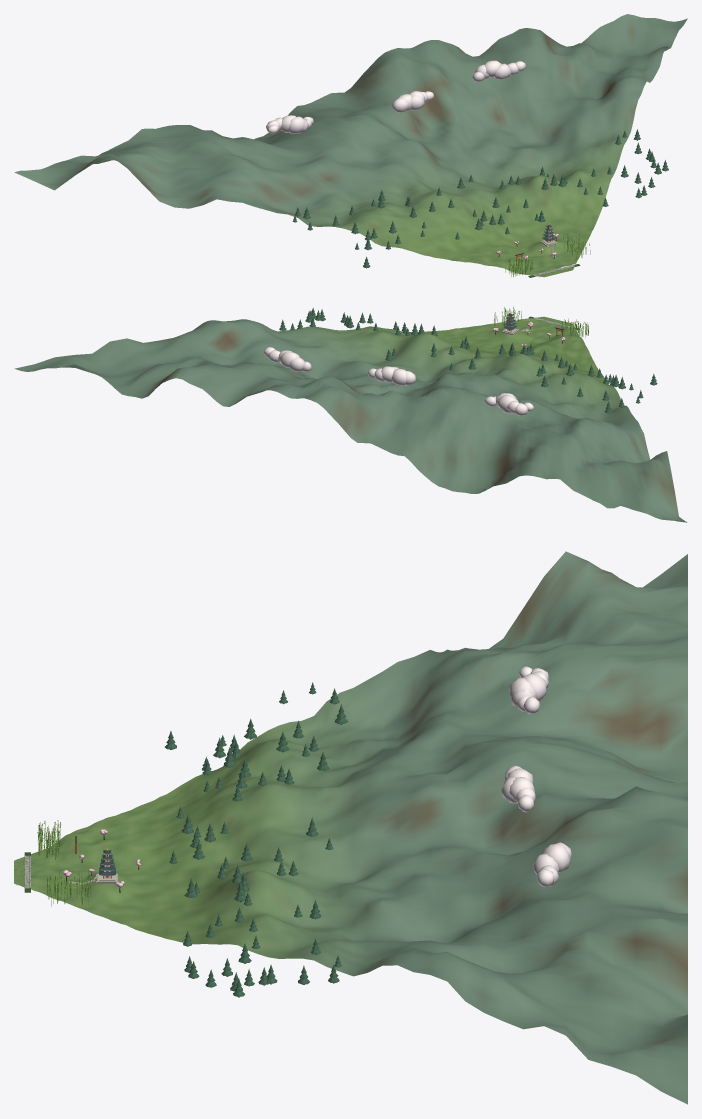
Rendered from backdrop_3.glb.
3 views of the same model, one above another, from view 1: azimuth 30°, elevation 25°; view 2: azimuth 150°, elevation 25°; view 3: azimuth 270°, elevation 25° (orthographic). The views are drawn at different scales.
Parts seen in each view (by area): view 1: mid_land, far_trees, cloud_2, cloud_0, cloud_1, mid_bamboo; view 2: mid_land, far_trees, cloud_1, cloud_2, cloud_0, mid_bamboo; view 3: mid_land, far_trees, cloud_0, mid_bamboo, cloud_2, cloud_1.
Boxes of the visible parts, left/top/right/bottom form: mid_land: left=14, top=14, right=687, bottom=275; far_trees: left=292, top=129, right=668, bottom=268; cloud_2: left=472, top=60, right=525, bottom=81; cloud_0: left=266, top=115, right=313, bottom=133; cloud_1: left=391, top=91, right=433, bottom=112; mid_bamboo: left=505, top=234, right=590, bottom=277; mid_land: left=14, top=318, right=687, bottom=522; far_trees: left=279, top=307, right=657, bottom=413; cloud_1: left=367, top=366, right=416, bottom=385; cloud_2: left=264, top=347, right=311, bottom=371; cloud_0: left=484, top=393, right=533, bottom=415; mid_bamboo: left=494, top=306, right=588, bottom=337; mid_land: left=31, top=551, right=687, bottom=1104; far_trees: left=165, top=682, right=348, bottom=997; cloud_0: left=509, top=666, right=548, bottom=714; mid_bamboo: left=37, top=820, right=91, bottom=906; cloud_2: left=533, top=842, right=571, bottom=886; cloud_1: left=501, top=765, right=535, bottom=812.
Size of the model in its own units: 805 by 78.12 by 430.
